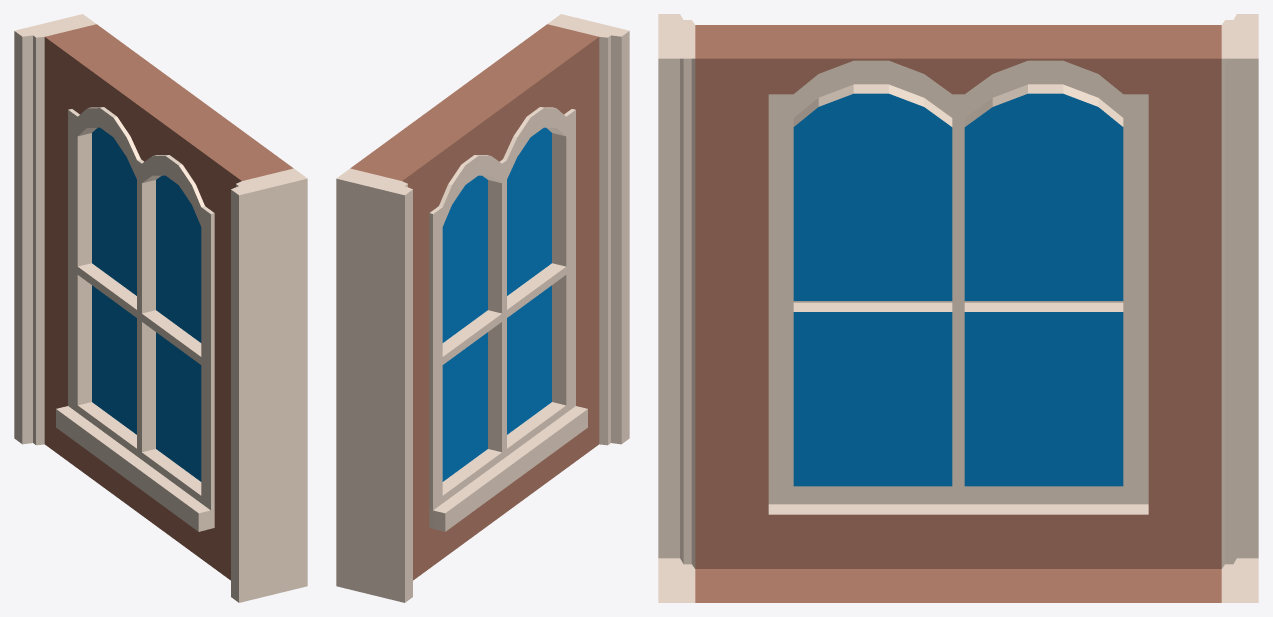
File: O_V_F_Type6_Window.fbx
3 views of the same model, side by side, from view 1: azimuth 30°, elevation 25°; view 2: azimuth 150°, elevation 25°; view 3: azimuth 270°, elevation 25° (orthographic). The views are drawn at different scales.
Visible parts, largest first — view 1: Box032; view 2: Box032; view 3: Box032.
Boxes of the visible parts, x1,y1,x2,y2 form: Box032: [14, 14, 307, 602]; Box032: [336, 14, 629, 602]; Box032: [658, 14, 1258, 602].
Bounding box in the file's own units: 0.5287 × 3 × 3.
